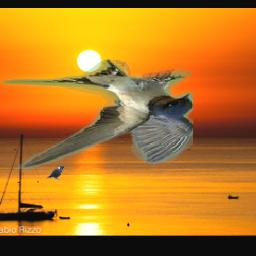Crow: (47, 166, 64, 181)
Swallow: (2, 60, 193, 170)
